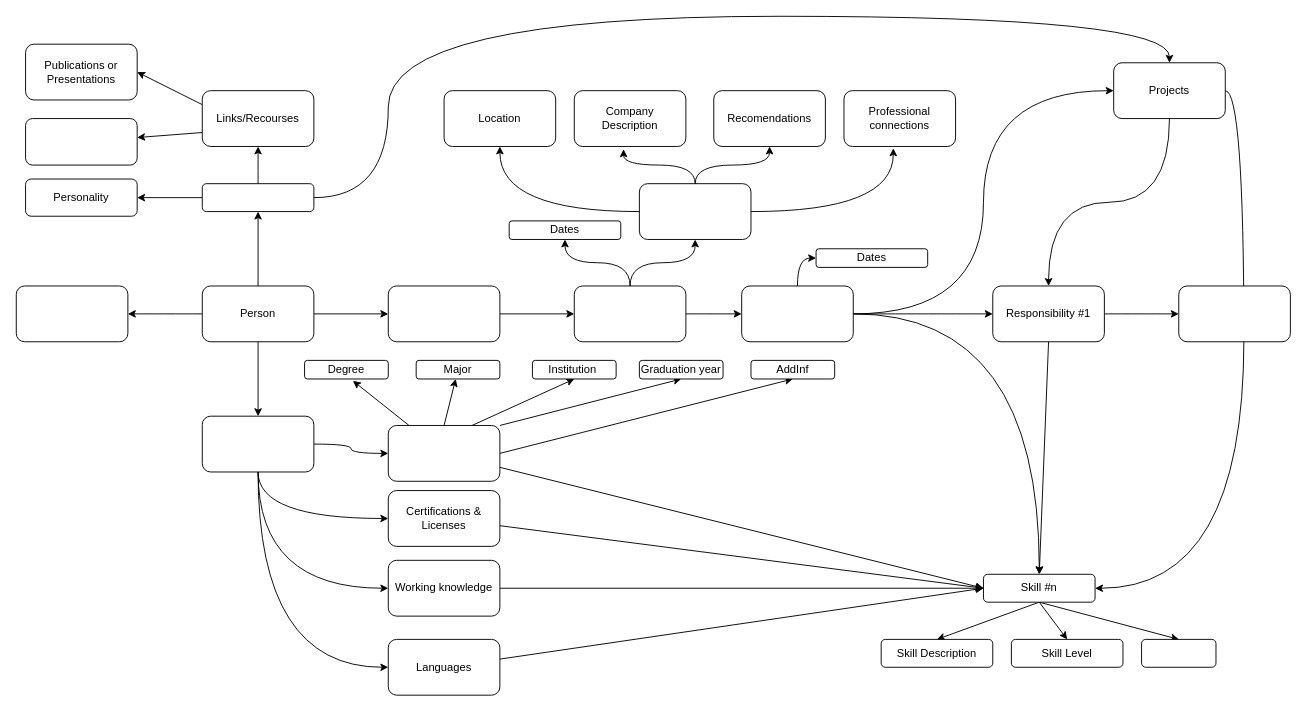
Some shapes in this 1307 by 711 pixel diagram are drawn without their labels. Each missing label, with the box of its shape:
About: (201, 183, 314, 212)
Add Inf: (1141, 638, 1216, 667)
Company: (638, 183, 751, 239)
Desirable job title #n: (15, 285, 128, 342)
Education and training: (387, 425, 500, 481)
Job #1: (573, 285, 686, 342)
Job title #1: (741, 285, 853, 342)
Professional Experience: (387, 285, 500, 342)
Recourse #1 like Linked In: (25, 118, 137, 165)
Responsibity description for desirable job title #n: (1178, 285, 1290, 342)
Skills & Knowledge: (201, 415, 314, 472)
